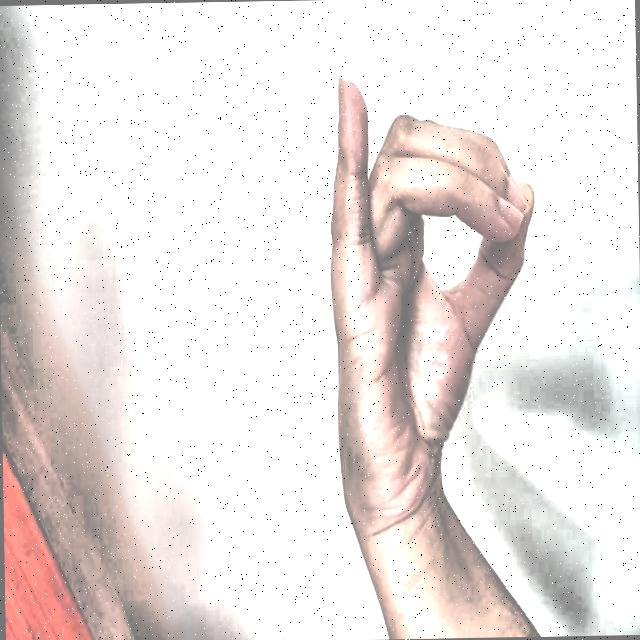Ou: (303, 48, 562, 541)
